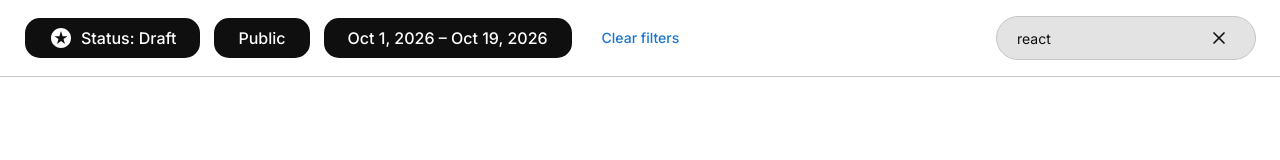
it: VideoFilters — clear filters › removes every filter, keeps unrelated params and empties the search
Click the button "Clear filters" at (640, 38), box [585, 19, 696, 57]
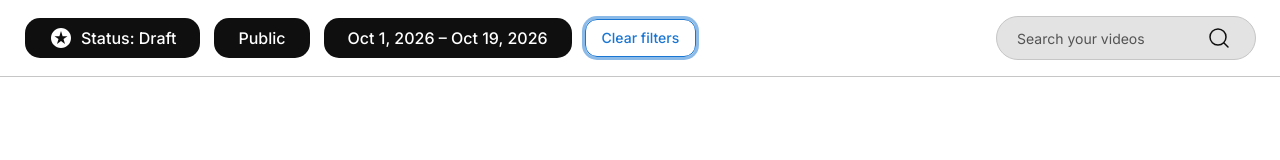
Check: the search field is empty, box [1017, 17, 1183, 59]
